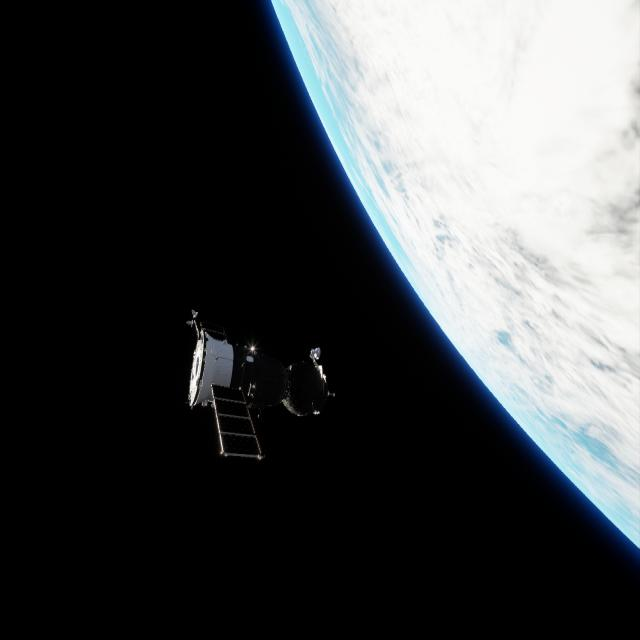Satellites revolving around earth: (184, 305, 336, 464)
